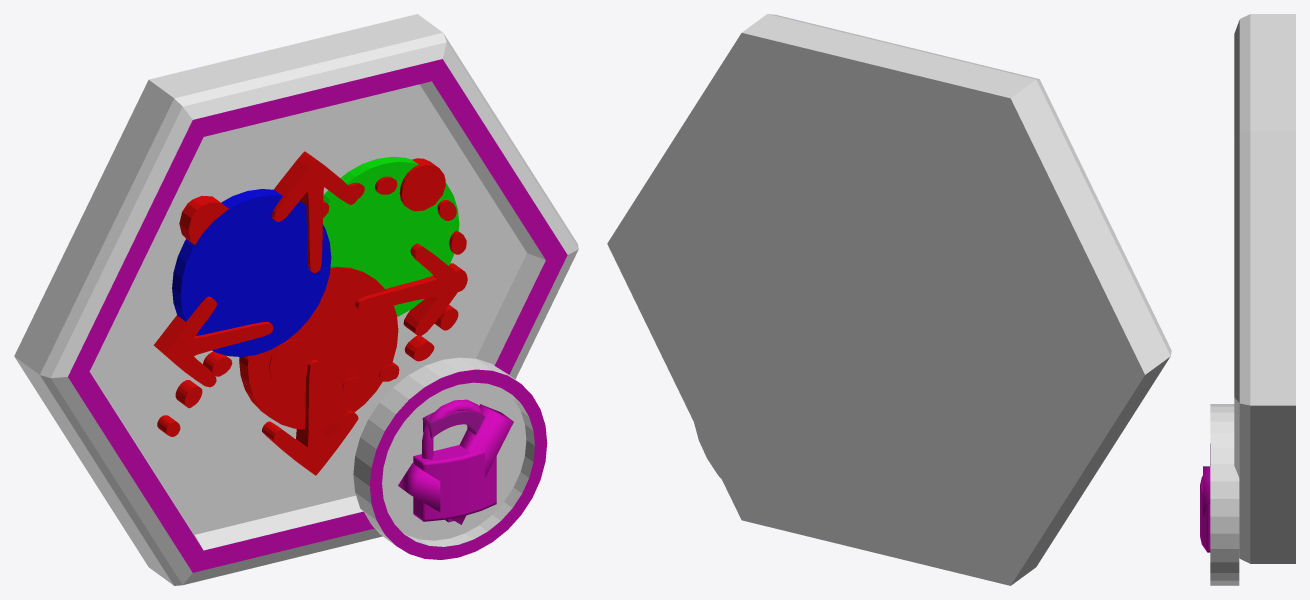
The model's file is hamiltonian_lock.dae.
3 renders of one model, left to right at view 1: azimuth 30°, elevation 25°; view 2: azimuth 150°, elevation 25°; view 3: azimuth 270°, elevation 25°, orthographic. The views are drawn at different scales.
Visible parts, largest first — view 1: node, kColor, Planar, Checkmark, Question; view 2: node; view 3: node, Checkmark.
Boxes of the visible parts, x1,y1,x2,y2 form: node: [14, 14, 578, 585]; kColor: [172, 156, 459, 429]; Planar: [153, 151, 466, 475]; Checkmark: [398, 404, 513, 524]; Question: [422, 410, 484, 522]; node: [607, 14, 1171, 585]; node: [1200, 14, 1295, 585]; Checkmark: [1203, 466, 1210, 518].
Bounding box in the file's own units: 2 × 0.3477 × 1.8.
